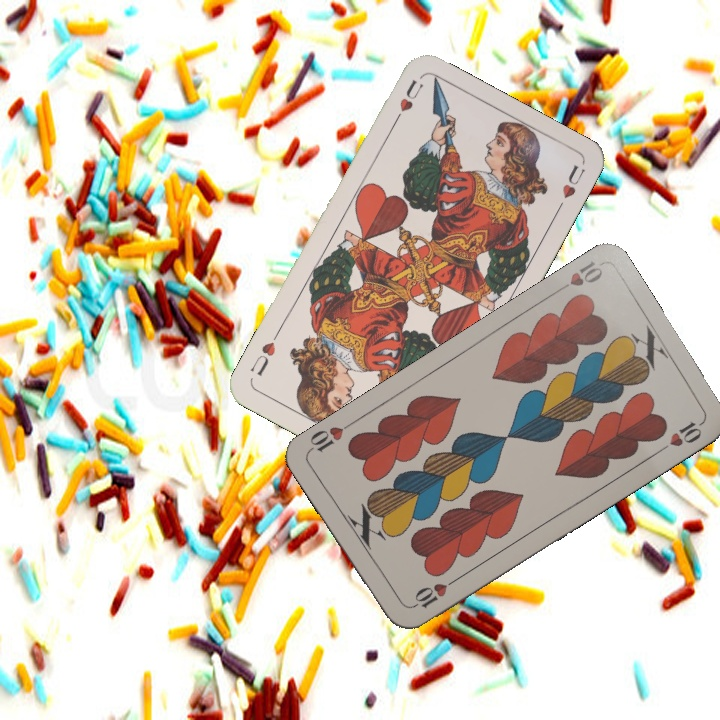H10: (550, 257, 606, 297), (406, 574, 460, 612)
HU: (388, 75, 426, 129)
